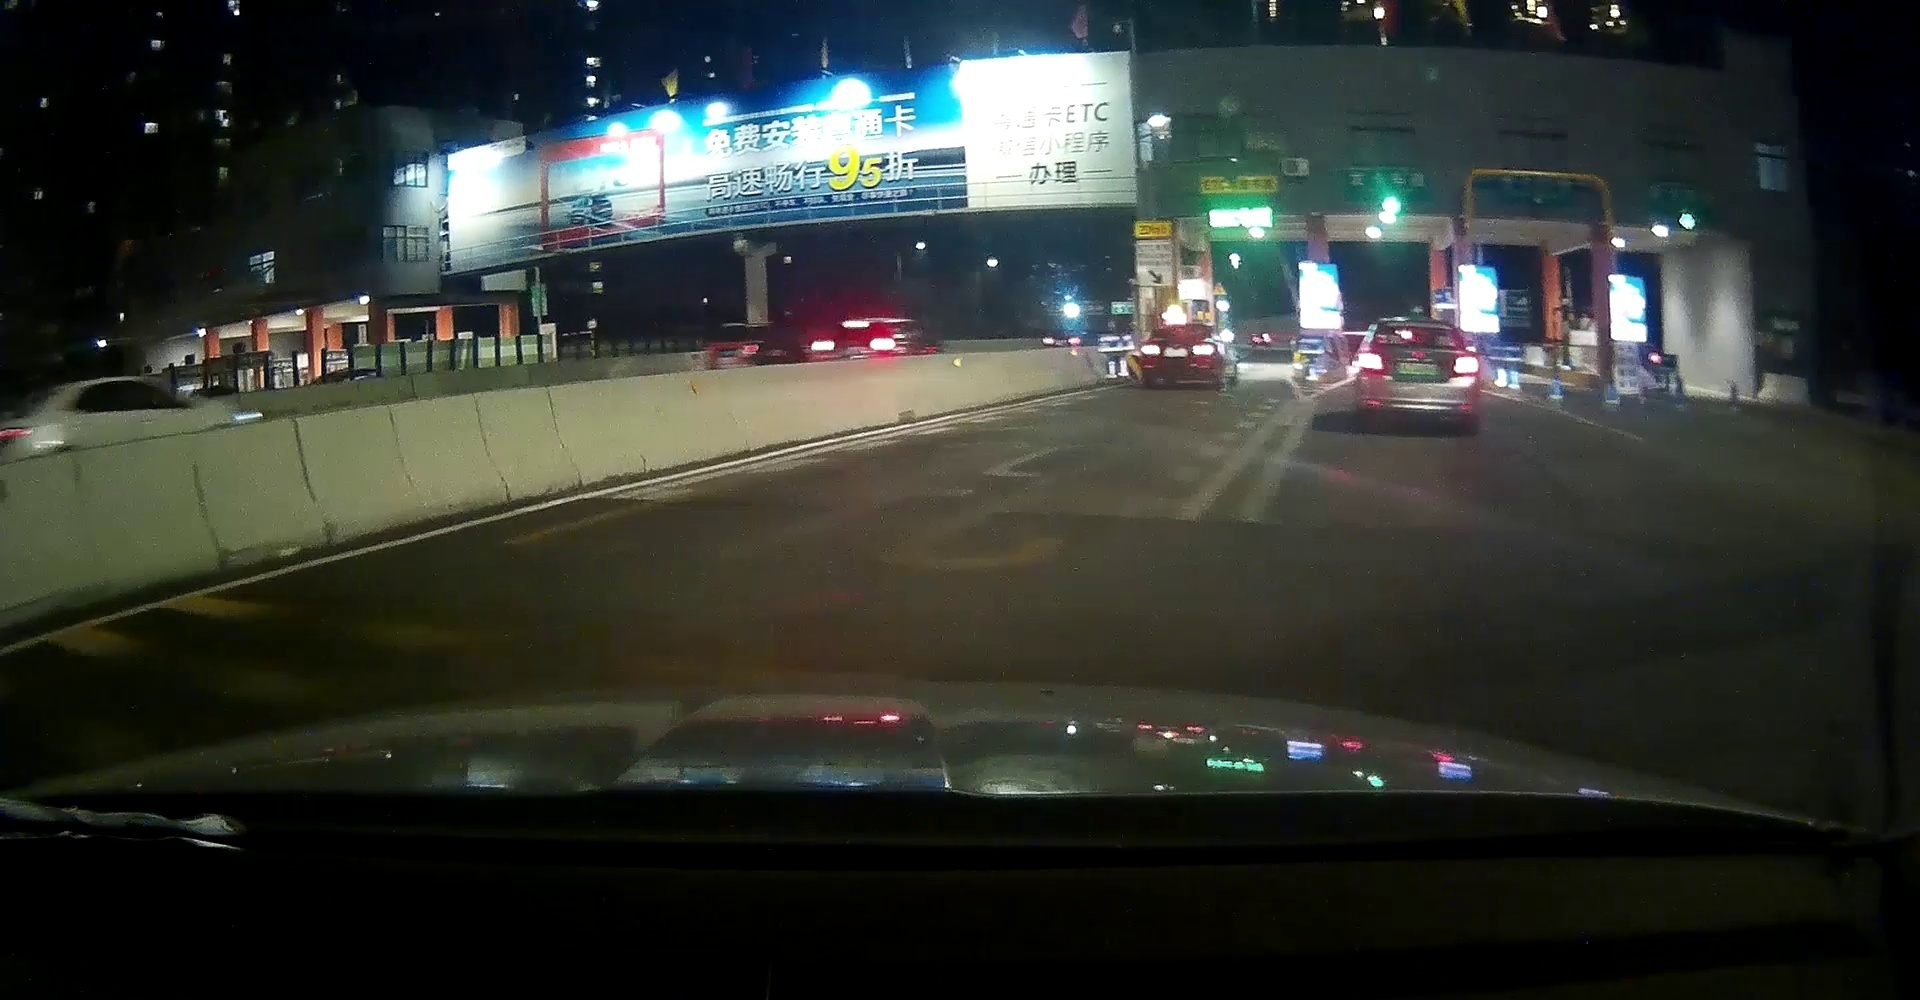L_light: (1359, 354, 1384, 372), (1142, 346, 1161, 354)
R_light: (1450, 357, 1478, 376), (1192, 346, 1213, 354)
T_light: (1411, 327, 1429, 332), (1173, 326, 1189, 331)
night-no: (1357, 321, 1479, 431), (1140, 324, 1217, 385)
